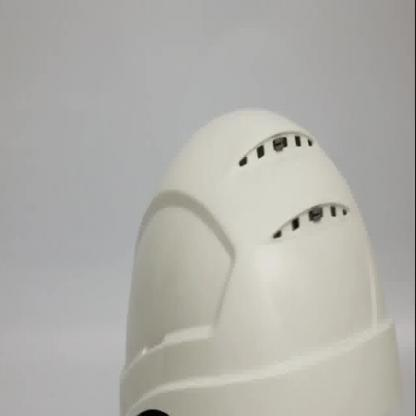helmet: (118, 104, 405, 415)
